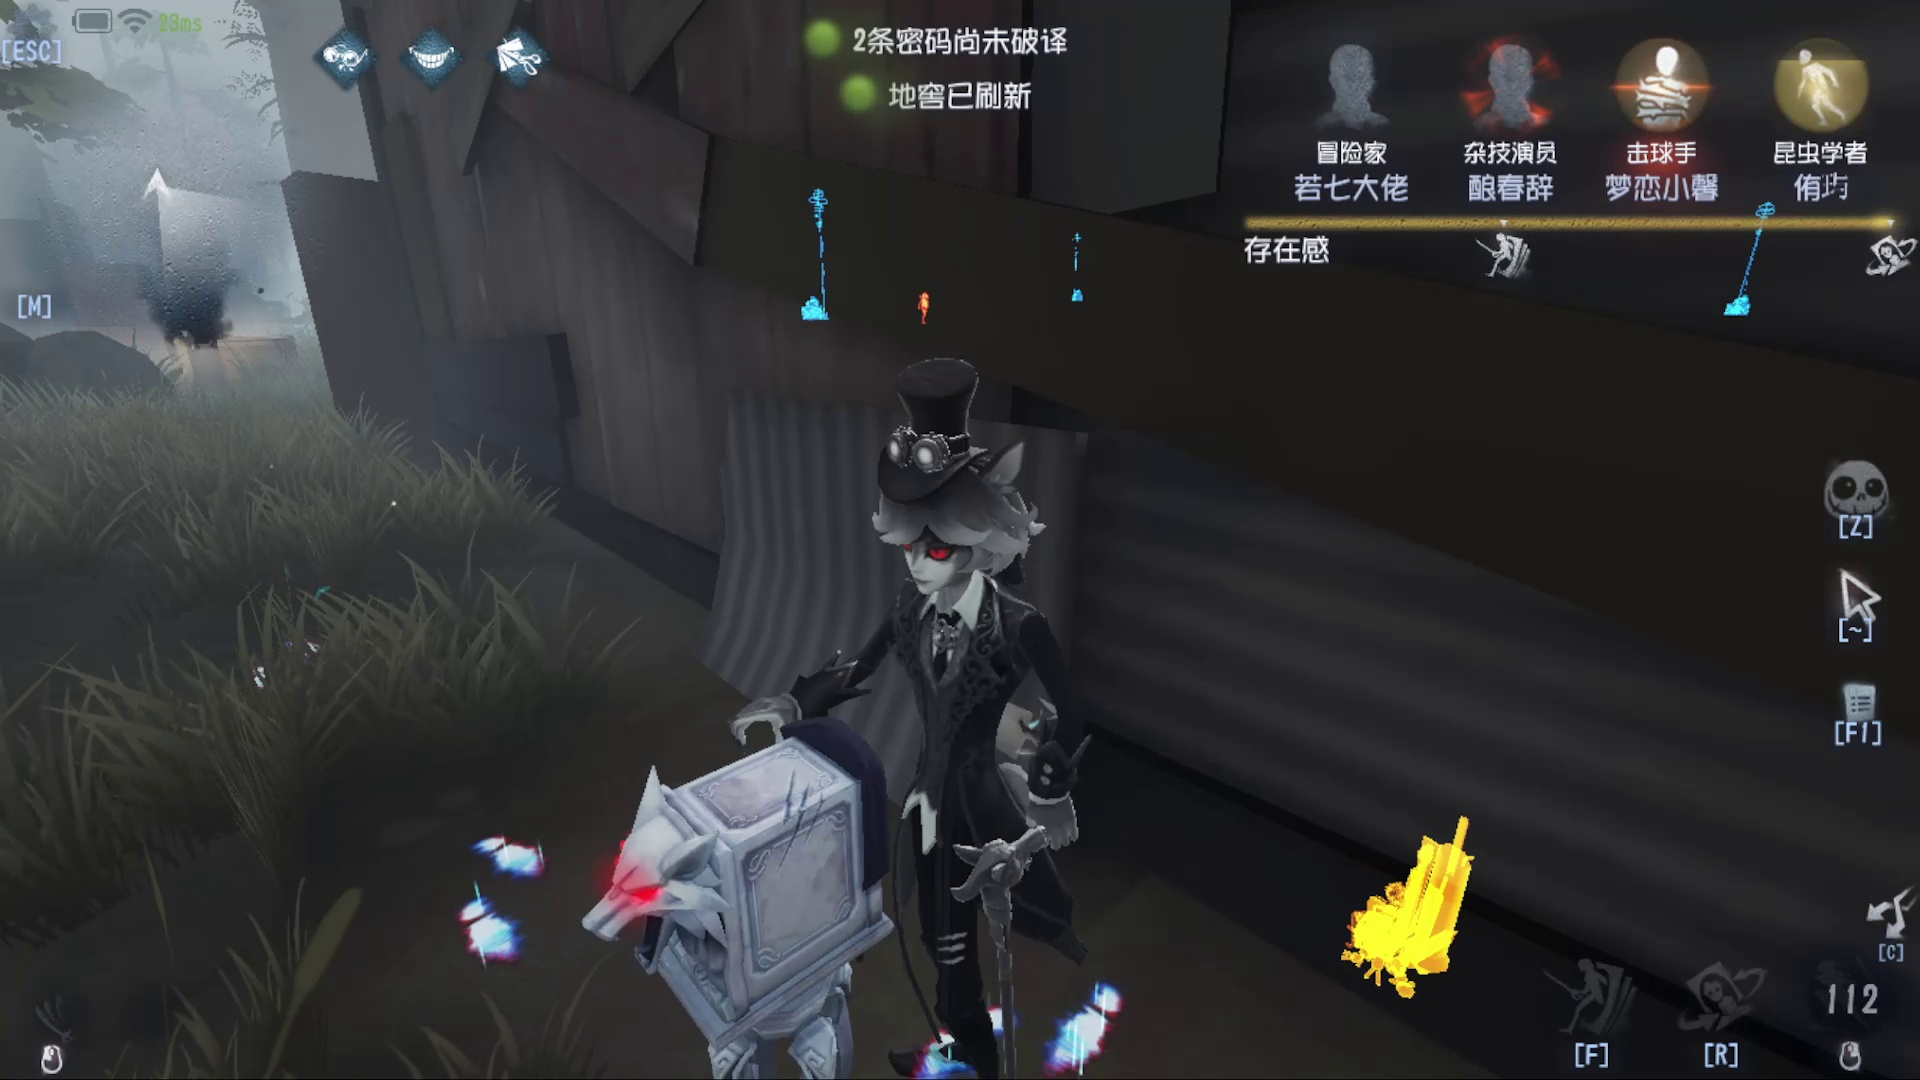求生者: (902, 280, 961, 351)
狂欢之椅: (777, 166, 860, 342), (1069, 220, 1112, 320)
